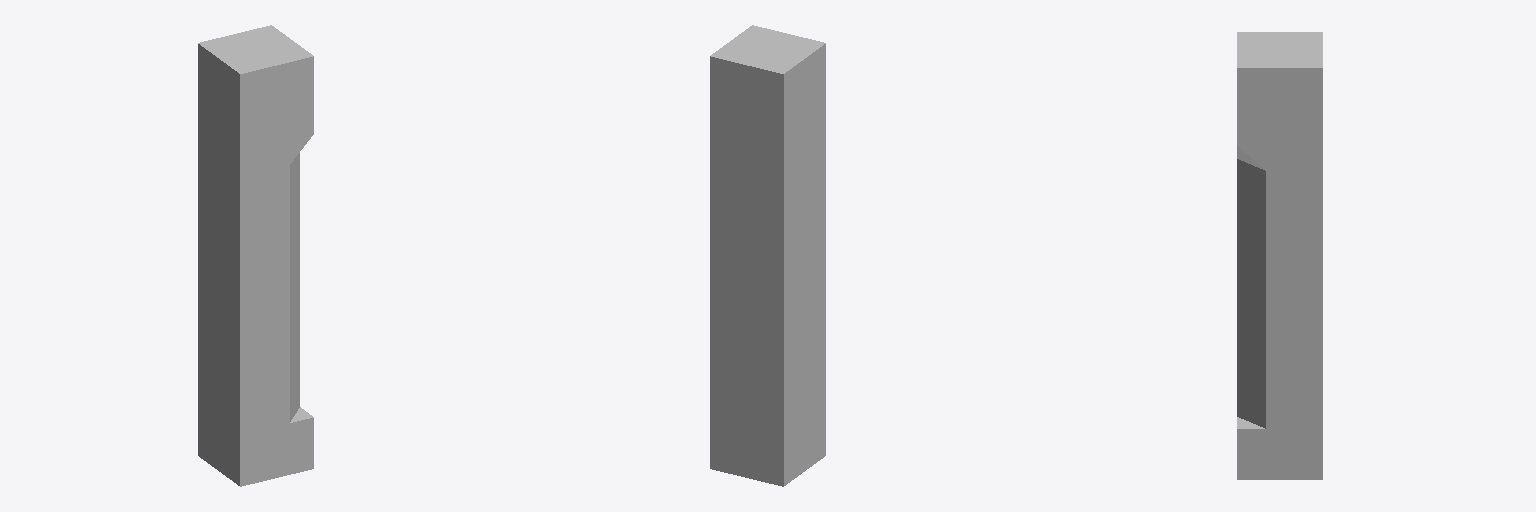
File: spaceInterior_045.obj
The picture shows the model from 3 angles: view 1: azimuth 30°, elevation 25°; view 2: azimuth 150°, elevation 25°; view 3: azimuth 270°, elevation 25°; orthographic projection.
Visible parts, largest first — view 1: Mesh1 Group1 Model; view 2: Mesh1 Group1 Model; view 3: Mesh1 Group1 Model.
Part boxes in pixels (x1,y1,x2,y2): Mesh1 Group1 Model: (198,25,313,486); Mesh1 Group1 Model: (710,25,825,486); Mesh1 Group1 Model: (1237,32,1322,479).
Bounding box in the file's own units: 0.1875 × 1 × 0.1875.